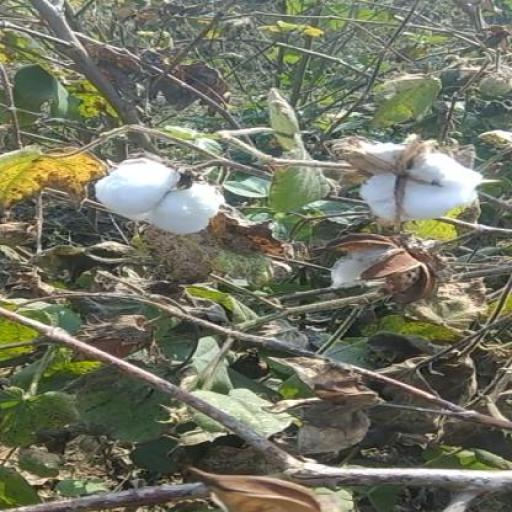cotton_ready: (332, 121, 477, 226), (103, 161, 243, 235)
